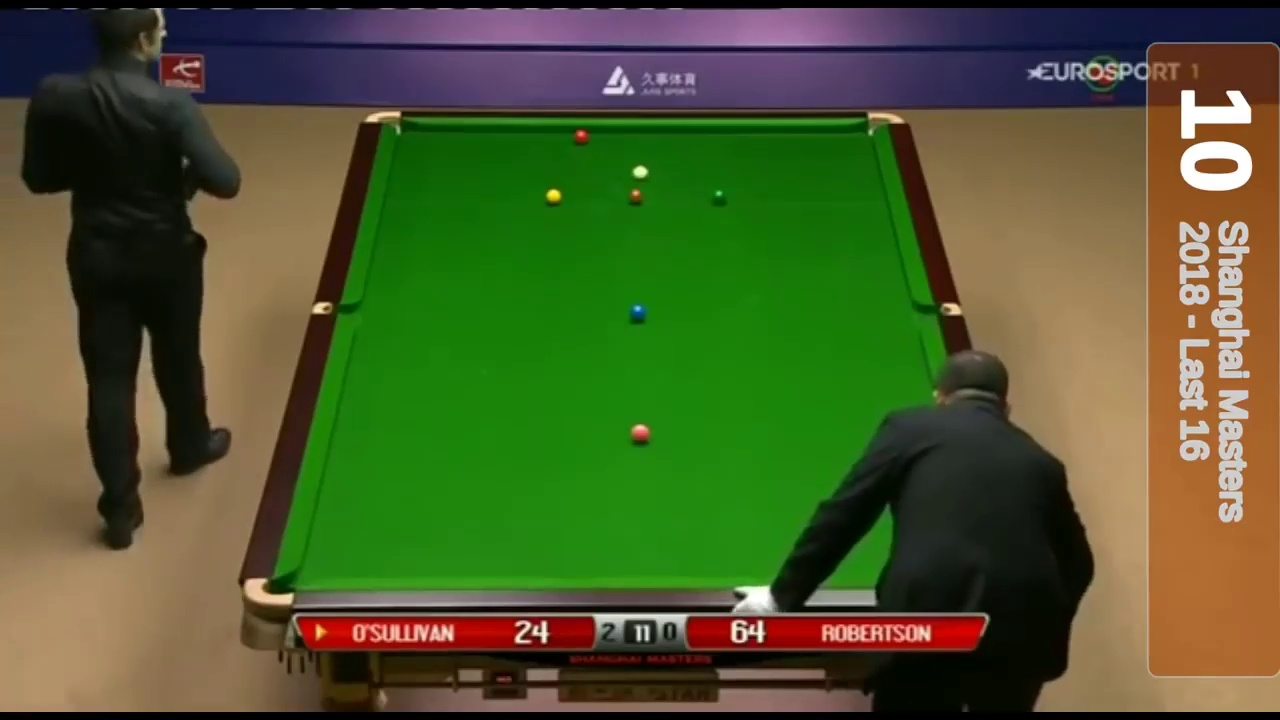ball: (541, 185, 563, 203), (631, 422, 649, 442), (707, 189, 726, 206), (629, 303, 645, 323), (571, 129, 592, 143), (628, 185, 641, 204)
